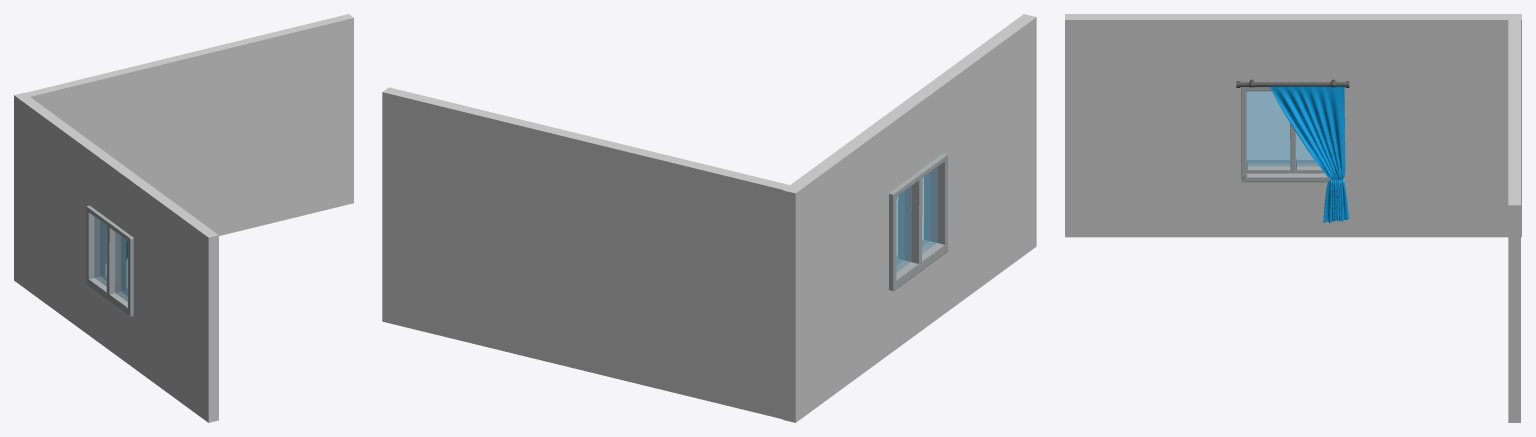
Rendered from walls_tier7.fbx.
The picture shows the model from 3 angles, left to right: view 1: azimuth 30°, elevation 25°; view 2: azimuth 150°, elevation 25°; view 3: azimuth 270°, elevation 25°; orthographic projection. The views are drawn at different scales.
Visible parts, largest first — view 1: Cube.007, Cube, Cube.002, Cube.003; view 2: Cube.007, Cube, Cube.002, Cube.003; view 3: Cube, curtain1.001, Cube.007, Cube.003, Cube.002, Cylinder.
Boxes of the visible parts, left/top/right/bottom form: Cube.007: left=24, top=14, right=353, bottom=263; Cube: left=14, top=93, right=218, bottom=422; Cube.002: left=86, top=205, right=133, bottom=316; Cube.003: left=94, top=217, right=127, bottom=301; Cube.007: left=382, top=87, right=789, bottom=419; Cube: left=783, top=14, right=1036, bottom=422; Cube.002: left=889, top=153, right=947, bottom=291; Cube.003: left=896, top=167, right=937, bottom=272; Cube: left=1065, top=14, right=1521, bottom=237; curtain1.001: left=1270, top=86, right=1348, bottom=222; Cube.007: left=1508, top=19, right=1520, bottom=422; Cube.003: left=1246, top=91, right=1318, bottom=166; Cube.002: left=1241, top=87, right=1344, bottom=182; Cylinder: left=1236, top=81, right=1349, bottom=87.
Bounding box in the file's own units: 659 × 346 × 658.
